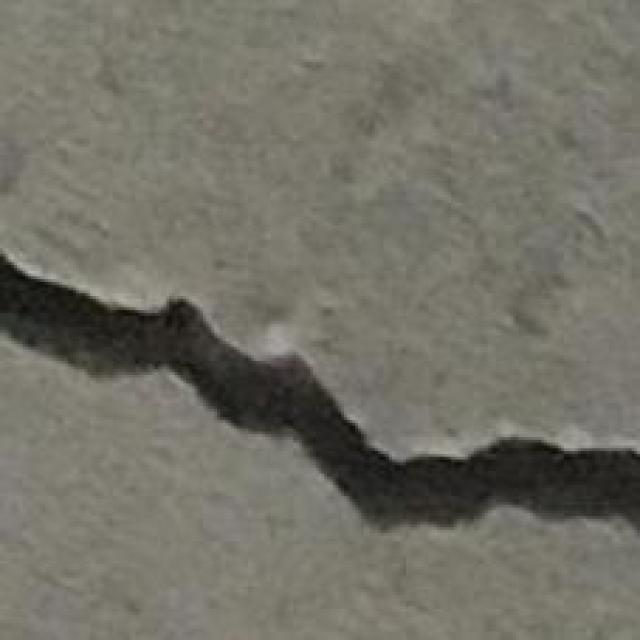Diagonal: (0, 240, 365, 551)
Transverse: (381, 424, 640, 566)
